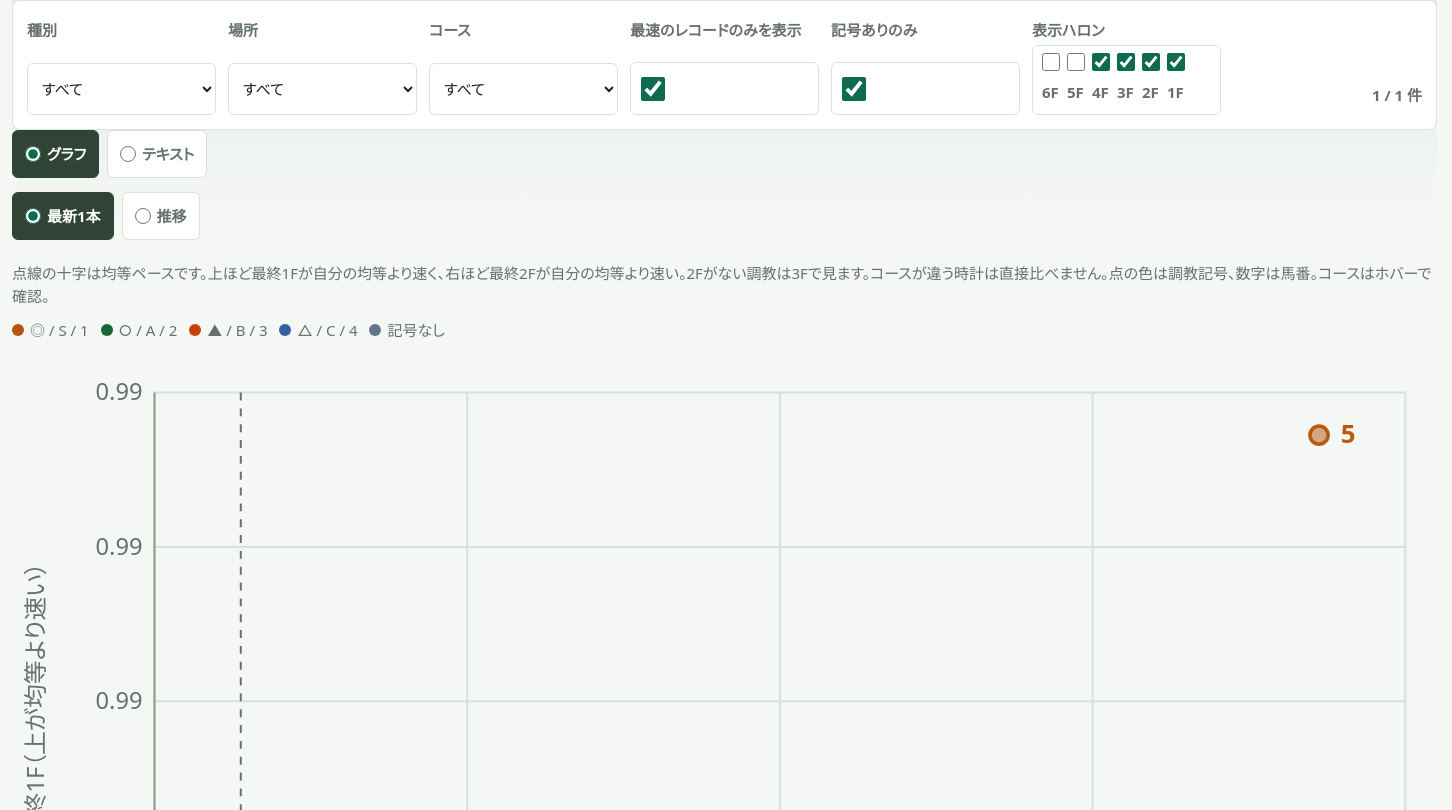
training table › shows netkeiba fallback workout times together with its symbol
The width and height of the screenshot is (1452, 810).
Click the radio button labelled "テキスト". click: (128, 154)
box: [120, 146, 136, 162]
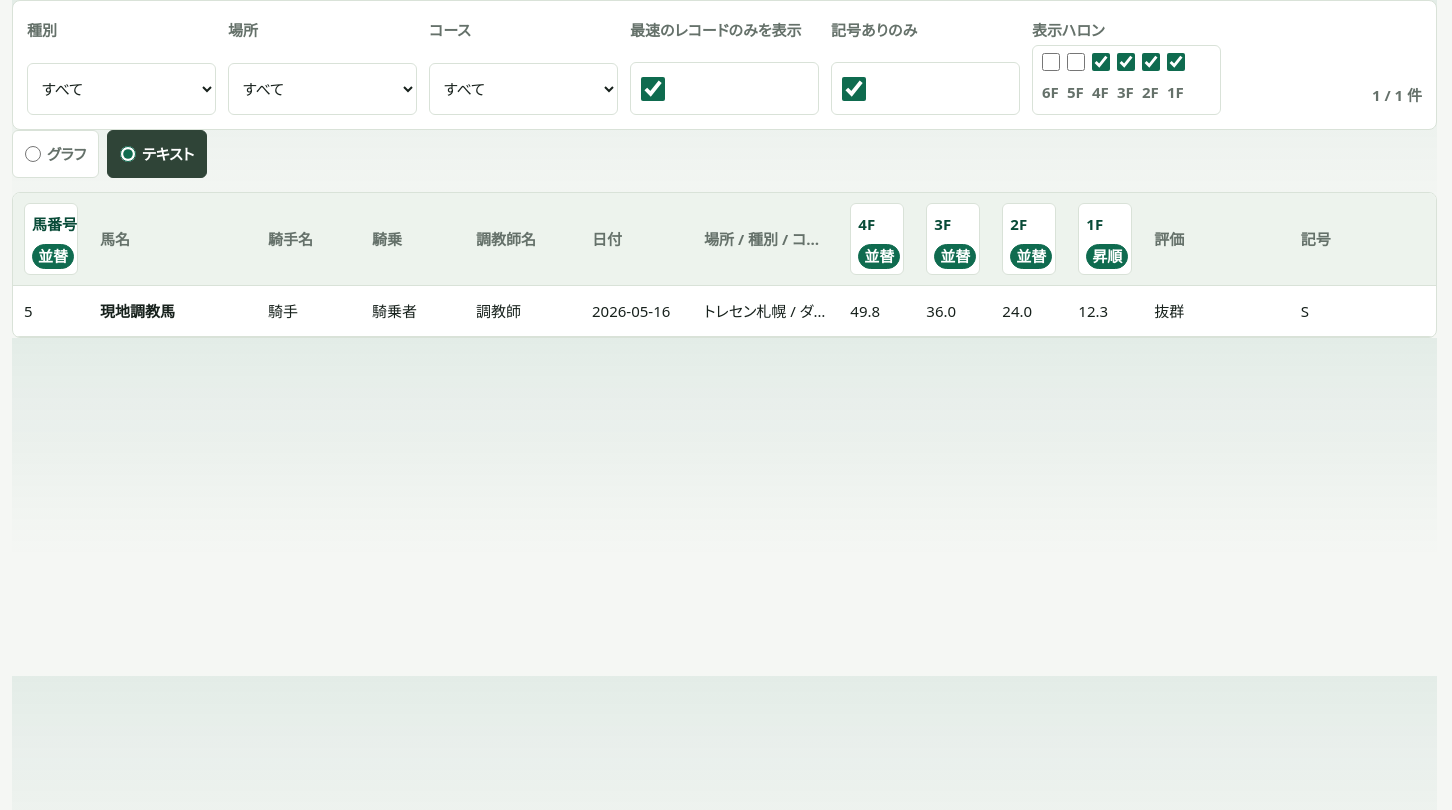
Result: the text "現地調教馬" is shown at [89, 286, 257, 336]
Result: the text "49.8" is shown at [839, 286, 915, 336]
Result: the text "12.3" is shown at [1067, 286, 1143, 336]
